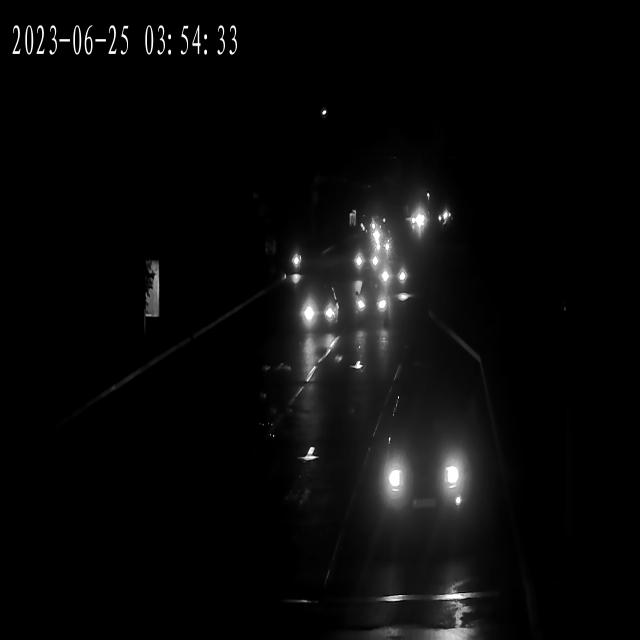Car: (366, 407, 473, 515), (298, 290, 341, 333), (294, 294, 336, 338), (350, 282, 391, 324), (374, 259, 409, 290), (347, 246, 380, 276), (406, 212, 428, 231), (357, 224, 380, 242), (367, 233, 390, 251), (370, 238, 393, 255), (360, 228, 382, 244), (356, 222, 378, 237)
